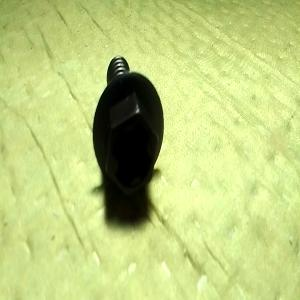parafuso: (92, 54, 164, 195)
